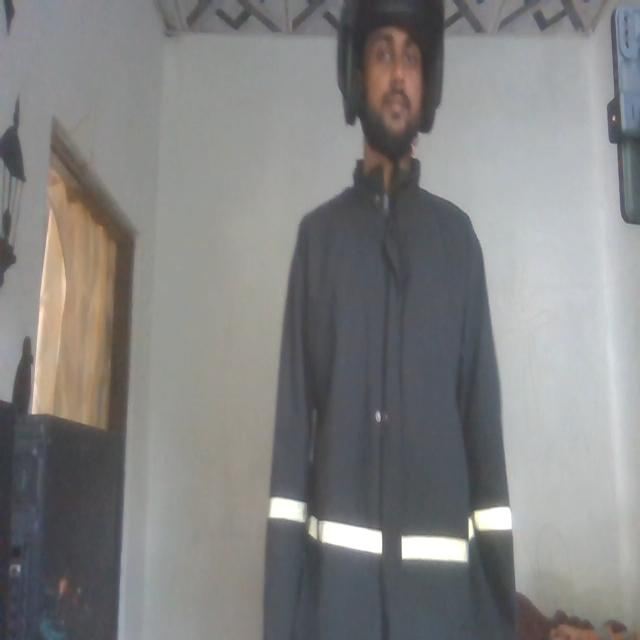Helmet_Wearer: (334, 0, 450, 176)
Jacket_Wearer: (276, 172, 494, 640)
Person: (264, 3, 511, 640)
